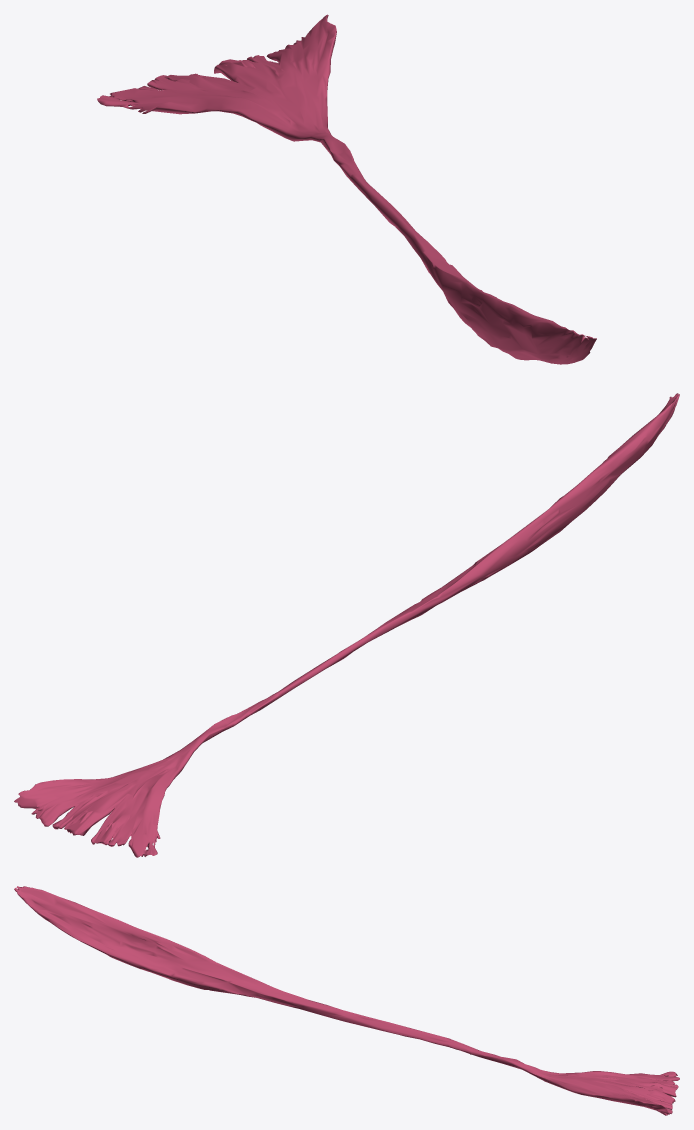
3 views of the same model, one above another, from view 1: azimuth 30°, elevation 25°; view 2: azimuth 150°, elevation 25°; view 3: azimuth 270°, elevation 25° (orthographic). The views are drawn at different scales.
Visible parts, largest first — view 1: 左侧掌长肌; view 2: 左侧掌长肌; view 3: 左侧掌长肌.
Boxes of the visible parts, x1,y1,x2,y2 form: 左侧掌长肌: [97, 14, 596, 364]; 左侧掌长肌: [14, 393, 679, 857]; 左侧掌长肌: [14, 886, 679, 1115].
Size of the model in its own units: 0.1697 by 0.1187 by 0.4882.
